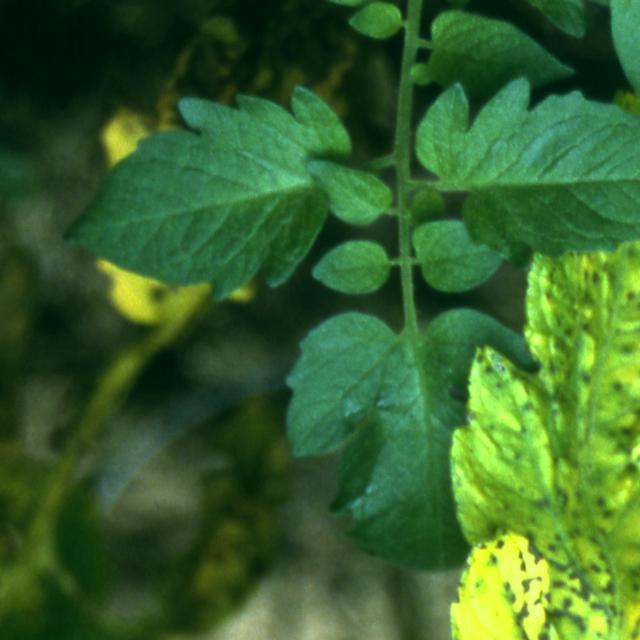Tomato Septoria leaf spot: (434, 0, 640, 640)
